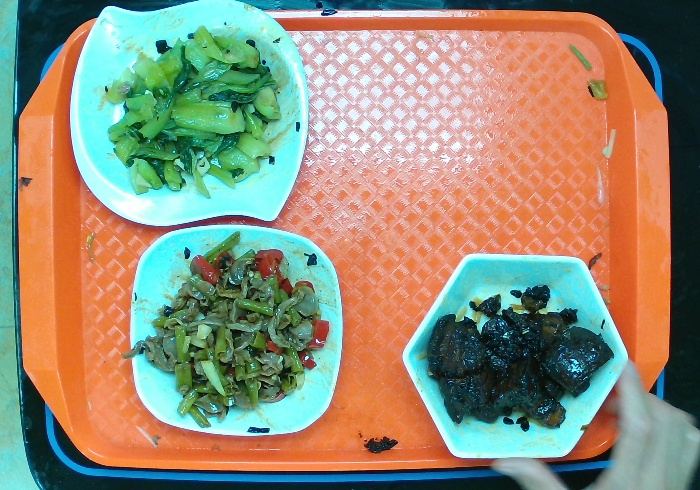RJxy-Liu_Jiao_Wan: (401, 252, 630, 460)
RJxy-Shuang_Jiao_Pan: (68, 1, 310, 229)
RJxy-Si_Fang_Wan: (128, 223, 345, 437)
